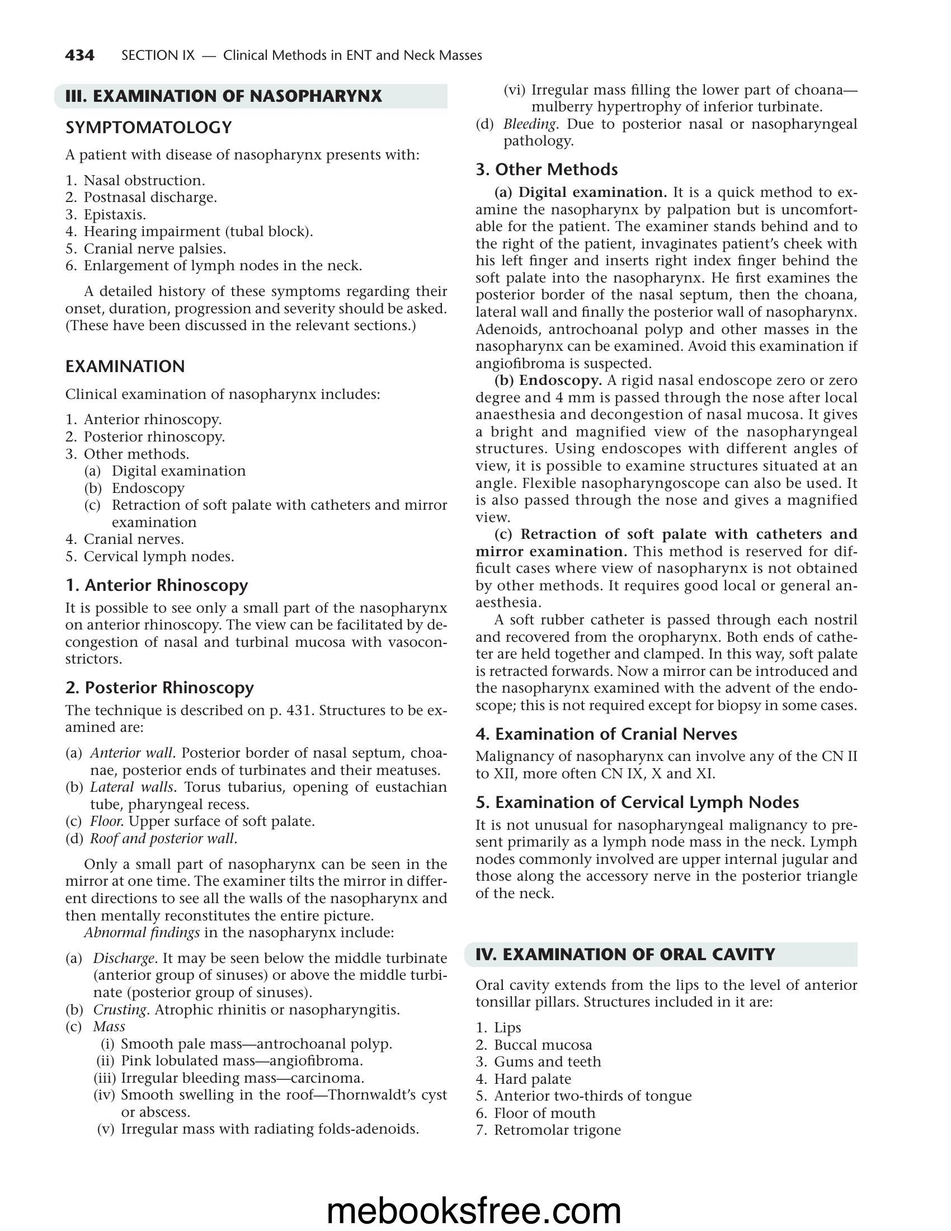header: (120, 48, 483, 62)
list: (65, 950, 447, 1140), (65, 412, 449, 566), (66, 746, 449, 848), (93, 1036, 448, 1139), (64, 173, 362, 275), (475, 81, 859, 151), (474, 1020, 693, 1139), (84, 464, 449, 529), (504, 82, 859, 116)
section-heading: (64, 88, 383, 103), (475, 947, 777, 961)
sub-section-heading: (475, 794, 800, 813), (474, 726, 739, 741), (65, 576, 249, 597), (65, 679, 255, 698), (65, 120, 232, 134), (476, 161, 619, 177), (65, 358, 185, 373)
text: (474, 184, 859, 716), (65, 857, 448, 942), (474, 817, 859, 901), (65, 601, 449, 665), (64, 284, 448, 335), (475, 976, 859, 1011), (476, 749, 857, 781), (64, 704, 448, 734), (64, 148, 420, 164), (65, 388, 380, 404)
